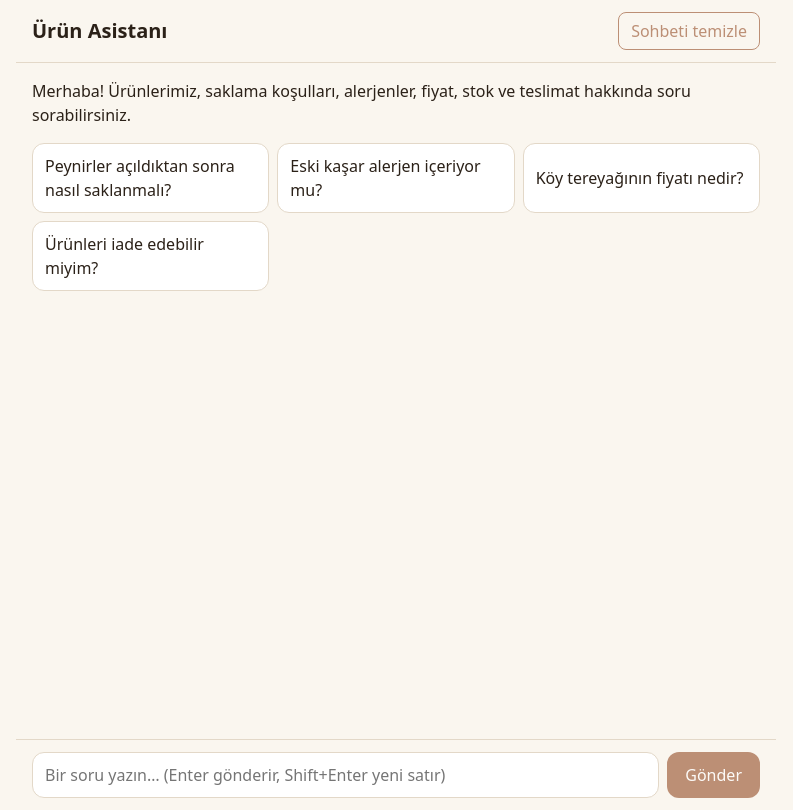
it: App › shows the server's message on 503 and retries with the same question
The image size is (793, 810).
Type "merhaba" into the text box named "Mesajınız". click: (346, 775)
box: [32,752,659,798]
Then press Enter
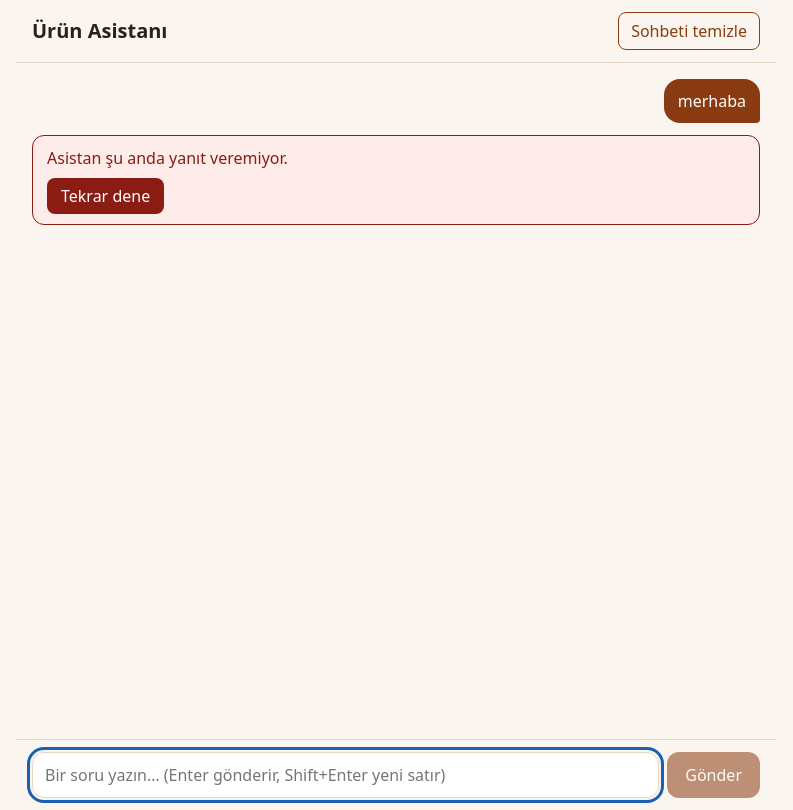
Check: the message shows "Asistan şu anda yanıt veremiyor.", box [47,147,288,169]
Click the button "Tekrar dene". click: (106, 196)
box: [47,178,164,214]
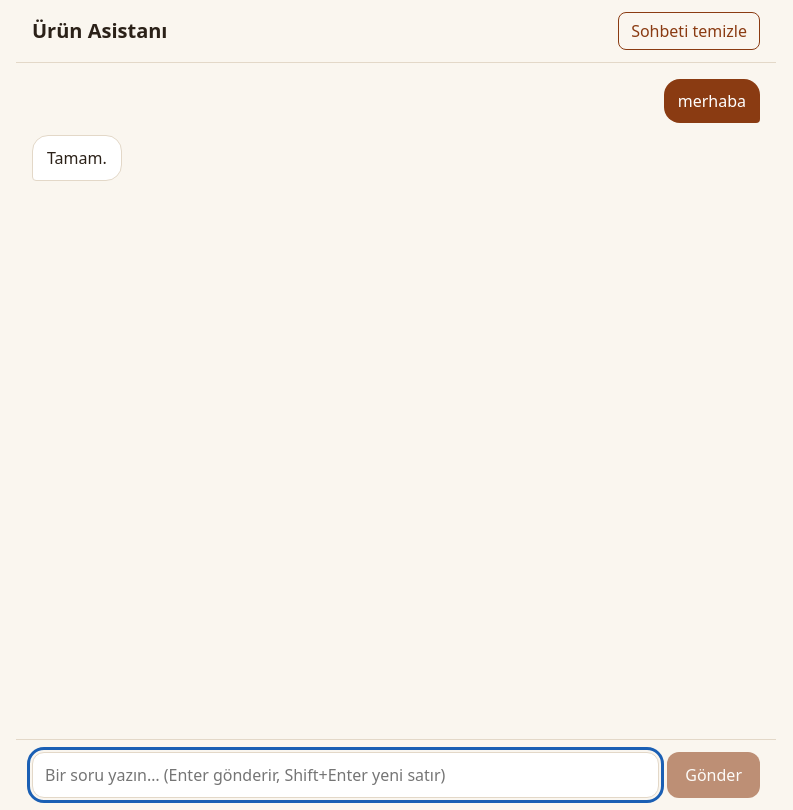
Check: the text "Tamam." is shown, box [47,146,107,170]
Check: the message "Asistan şu anda yanıt veremiyor. Tekrar dene" is gone
Check: the text "merhaba" is shown once, box [678,89,746,113]
